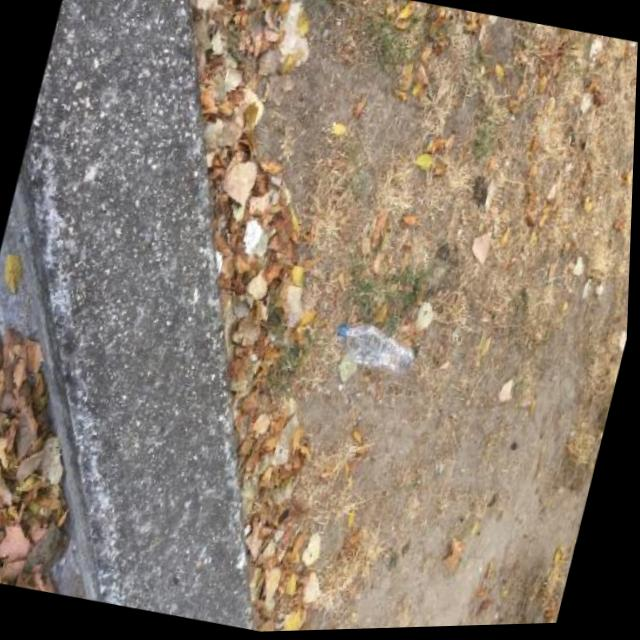plastic: (326, 315, 419, 382)
